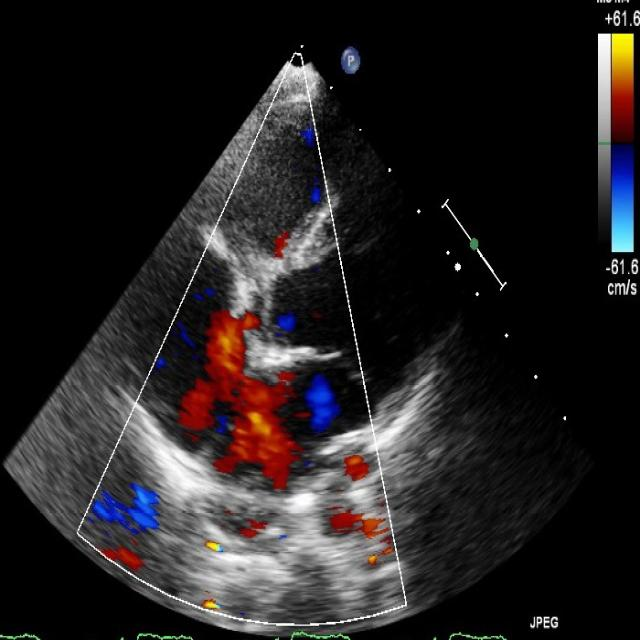ASDType2: (179, 309, 297, 492)
